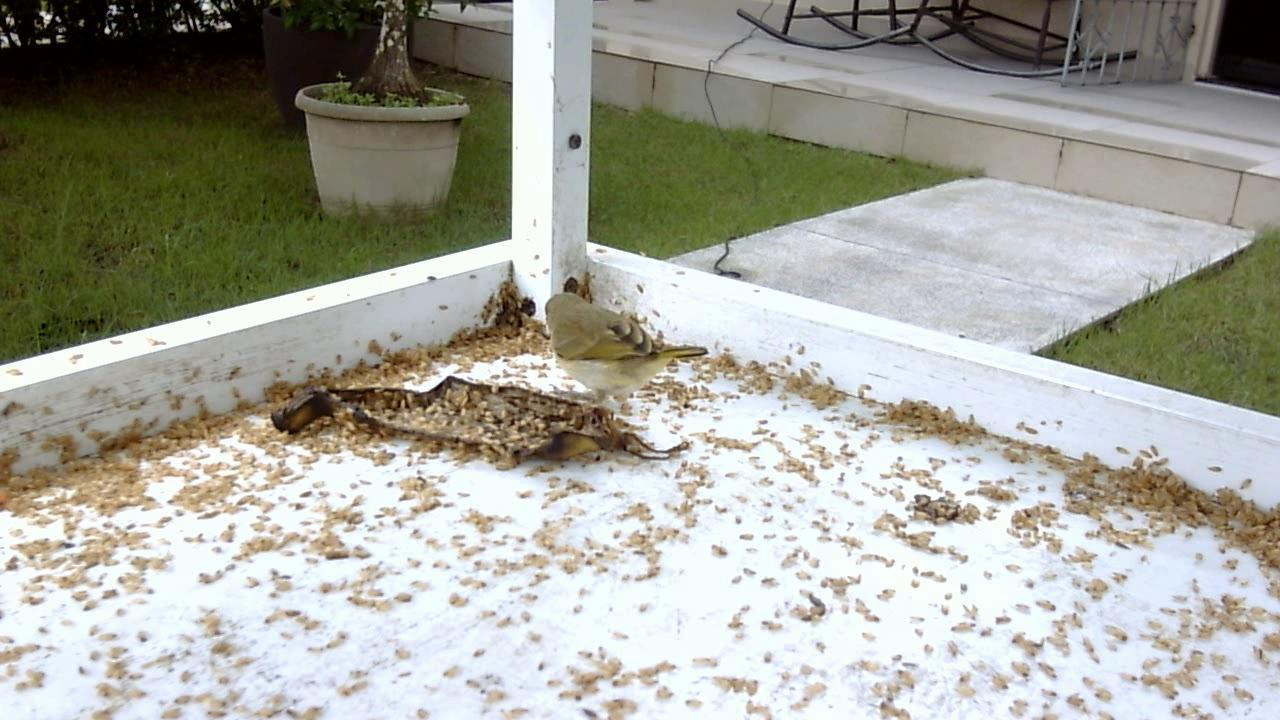canario_do_amazonas: (532, 283, 715, 425)
